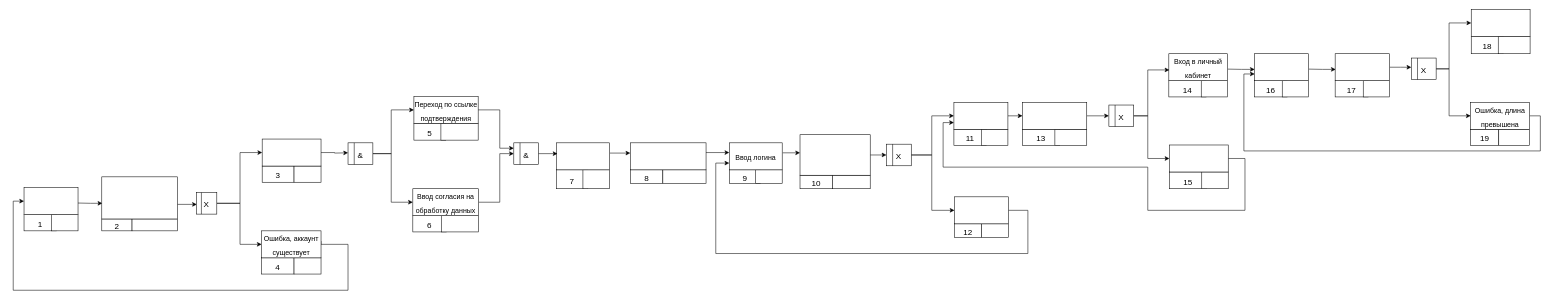
This 1554x304 diagram has some shape labels left out. The box of each missing label's shape, as (x1, y1, x2, y2) in pixels:
Активация учетной записи: (630, 142, 706, 170)
Ввод e-mail: (23, 187, 78, 215)
Ввод пароля: (953, 102, 1008, 129)
Ввод текста "О себе": (1254, 53, 1309, 81)
Отправка письма подтверждения: (262, 139, 321, 166)
Ошибка, логин не найден: (954, 196, 1008, 224)
Ошибка, пароль неверный: (1169, 144, 1228, 172)
Проверка длины текста: (1335, 53, 1390, 81)
Проверка пароля: (1022, 102, 1087, 129)
Проверка существования учетной записи: (101, 176, 177, 219)
Проверка уникальности логина: (799, 134, 870, 175)
Создание учетной записи: (556, 142, 609, 170)
Сохранение информации: (1471, 9, 1530, 36)
